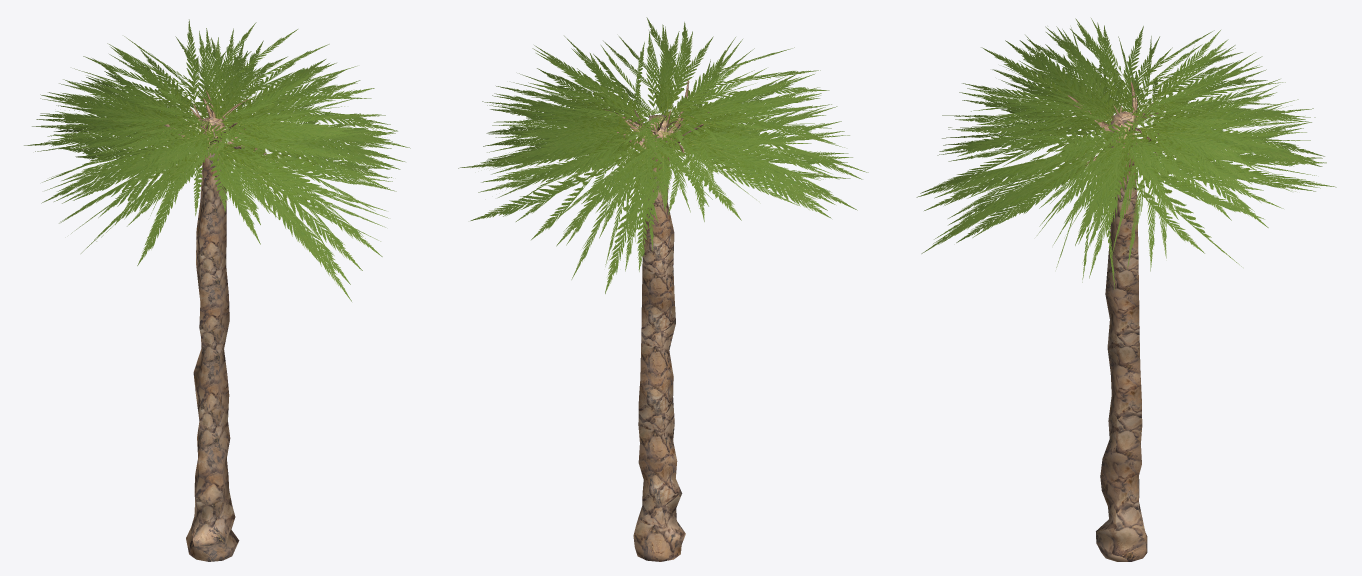
File: Tree_LOD3.fbx
3 views of the same model, side by side, from view 1: azimuth 30°, elevation 25°; view 2: azimuth 150°, elevation 25°; view 3: azimuth 270°, elevation 25° (orthographic).
Parts seen in each view (by area): view 1: fern02_1, palm01_0; view 2: fern02_1, palm01_0; view 3: fern02_1, palm01_0.
Part boxes in pixels (x1,y1,x2,y2): fern02_1: (24,19,410,301); palm01_0: (161,90,267,561); fern02_1: (458,17,868,293); palm01_0: (604,80,709,561); fern02_1: (916,18,1336,289); palm01_0: (1068,82,1169,561).
Size of the model in its own units: 834 by 1095 by 865.
Materials: 2 (2 with a texture image).
